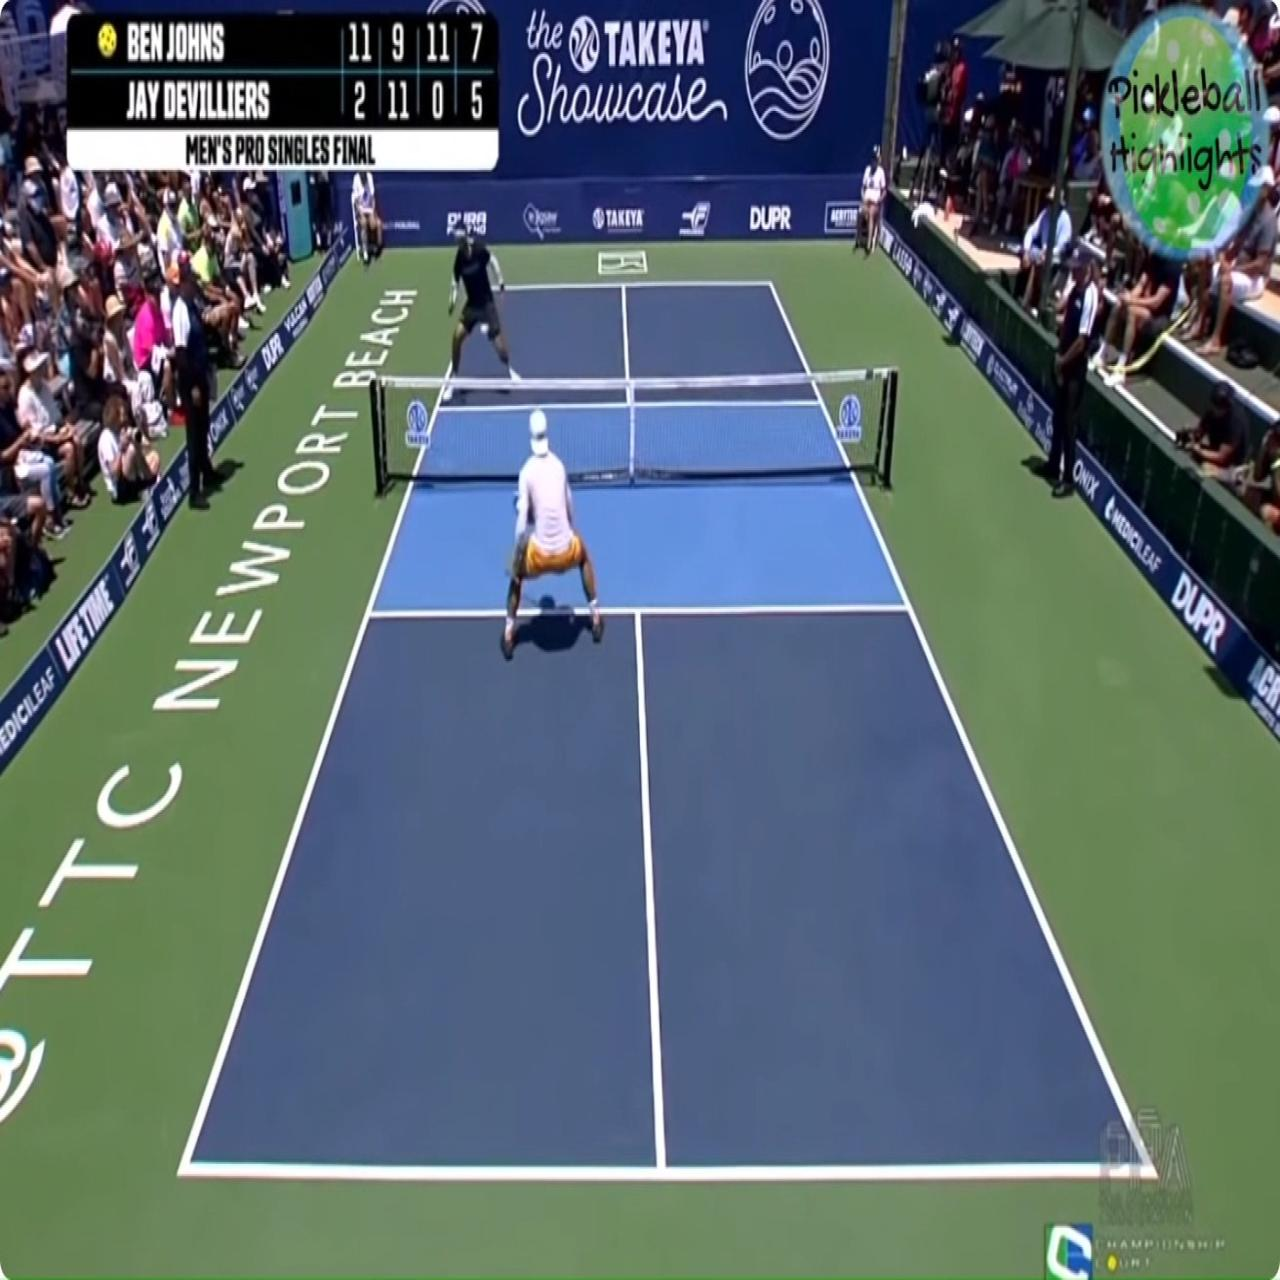pickleball: (479, 322, 490, 335)
